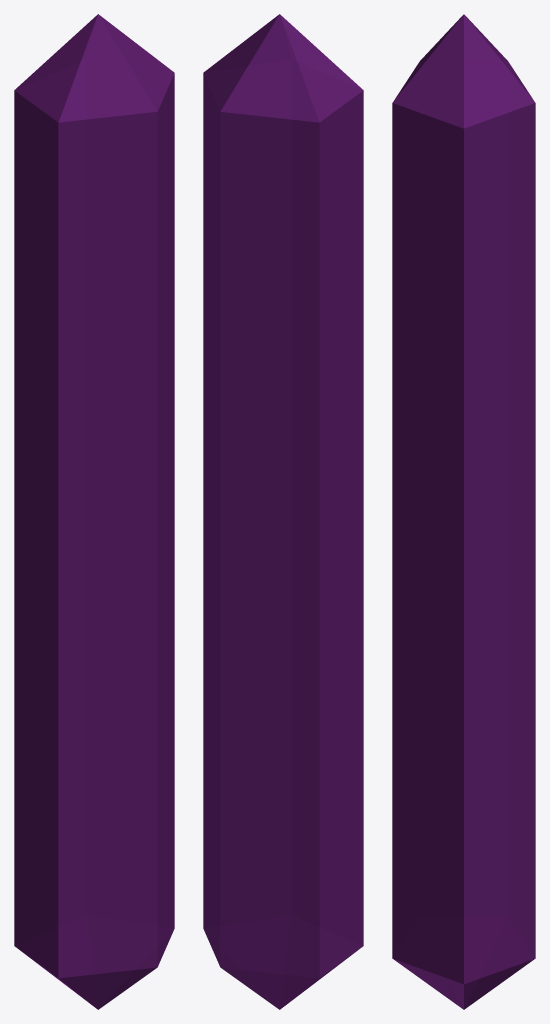
File: Crystal_Pointy_Ends.fbx
The picture shows the model from 3 angles, left to right: view 1: azimuth 30°, elevation 25°; view 2: azimuth 150°, elevation 25°; view 3: azimuth 270°, elevation 25°; orthographic projection.
Visible parts, largest first — view 1: Crystal_Pointy_Ends; view 2: Crystal_Pointy_Ends; view 3: Crystal_Pointy_Ends.
Part boxes in pixels (x1=…): Crystal_Pointy_Ends: x1=14, y1=14, x2=174, y2=1009; Crystal_Pointy_Ends: x1=203, y1=14, x2=363, y2=1009; Crystal_Pointy_Ends: x1=392, y1=14, x2=535, y2=1009.
Size of the model in its own units: 1.52 by 1.36 by 10.45.
